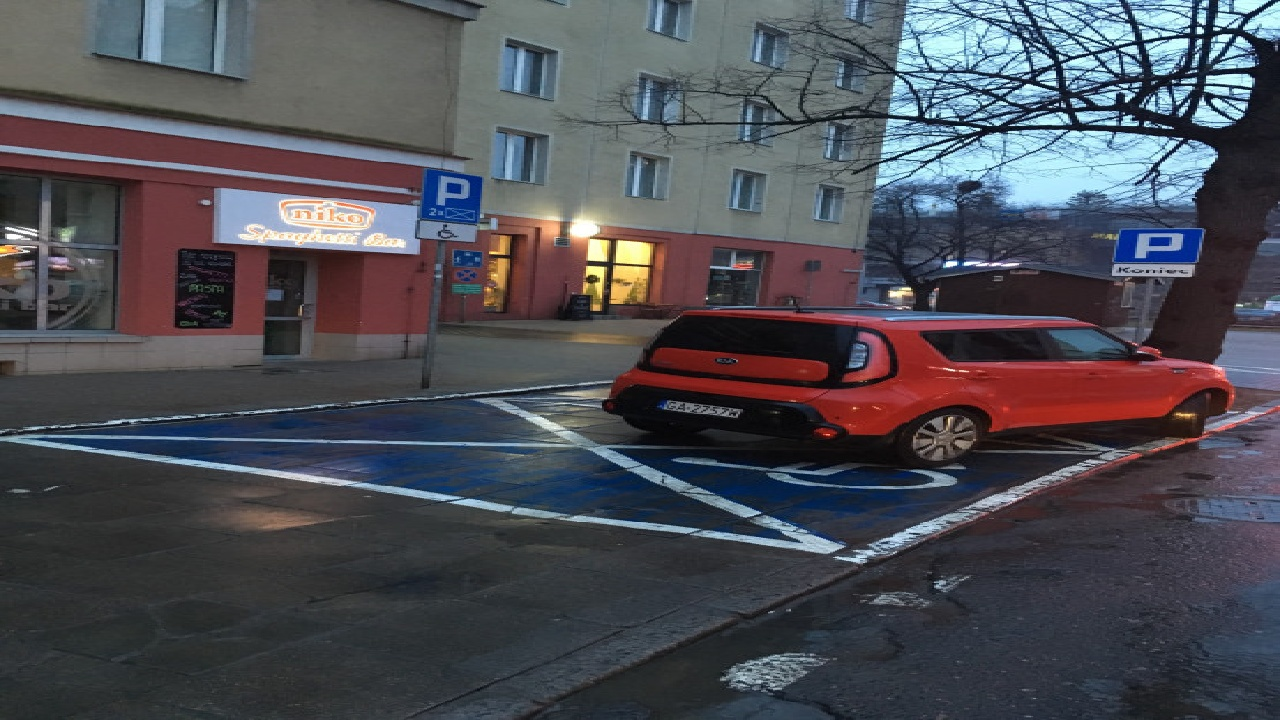D18: (421, 168, 482, 222), (1114, 227, 1200, 263)
